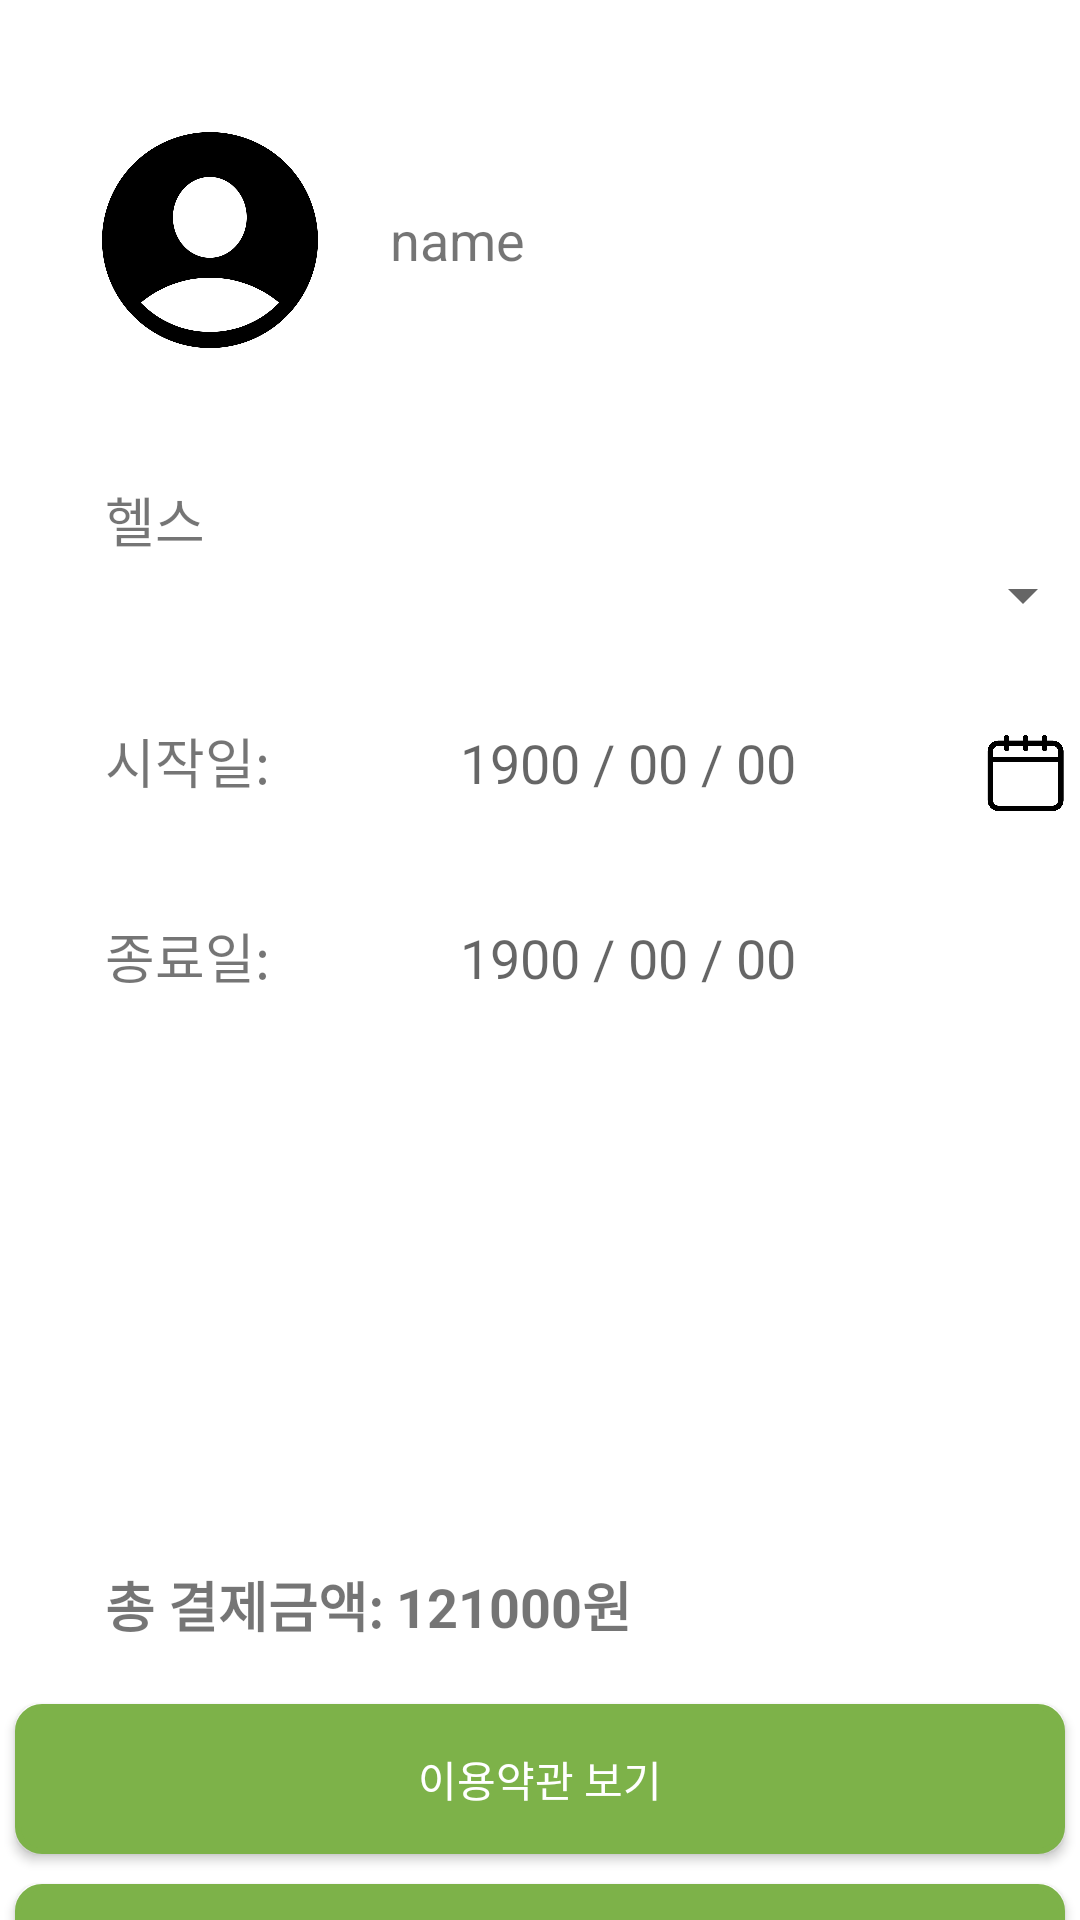

Icons on this 1080w x 1920h Android screen, each with its box as bbox=(x1, y1, x2, y2):
calender: bbox=(987, 735, 1064, 811)
member: bbox=(102, 132, 318, 348)
